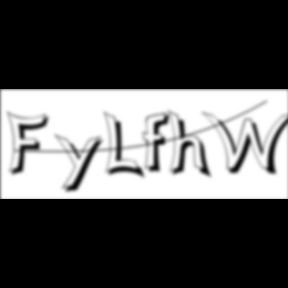F: (7, 110, 55, 178)
L: (104, 110, 148, 182)
f: (144, 111, 176, 175)
h: (168, 108, 216, 182)
y: (55, 132, 109, 196)
